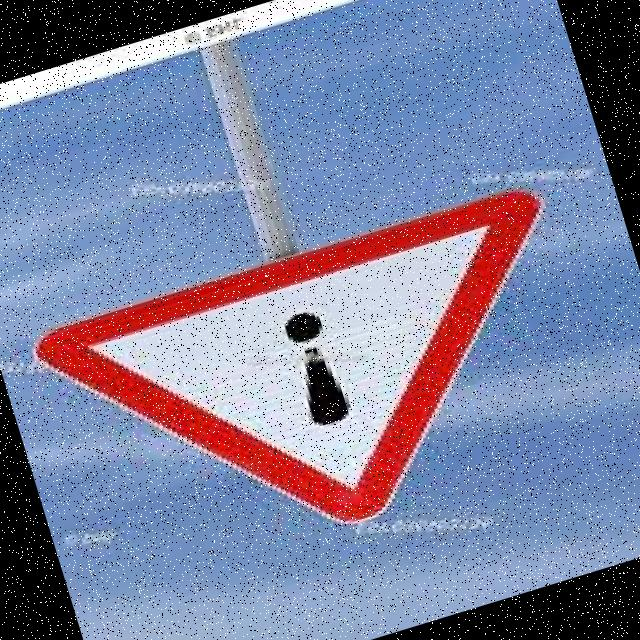warning: (9, 162, 630, 612)
